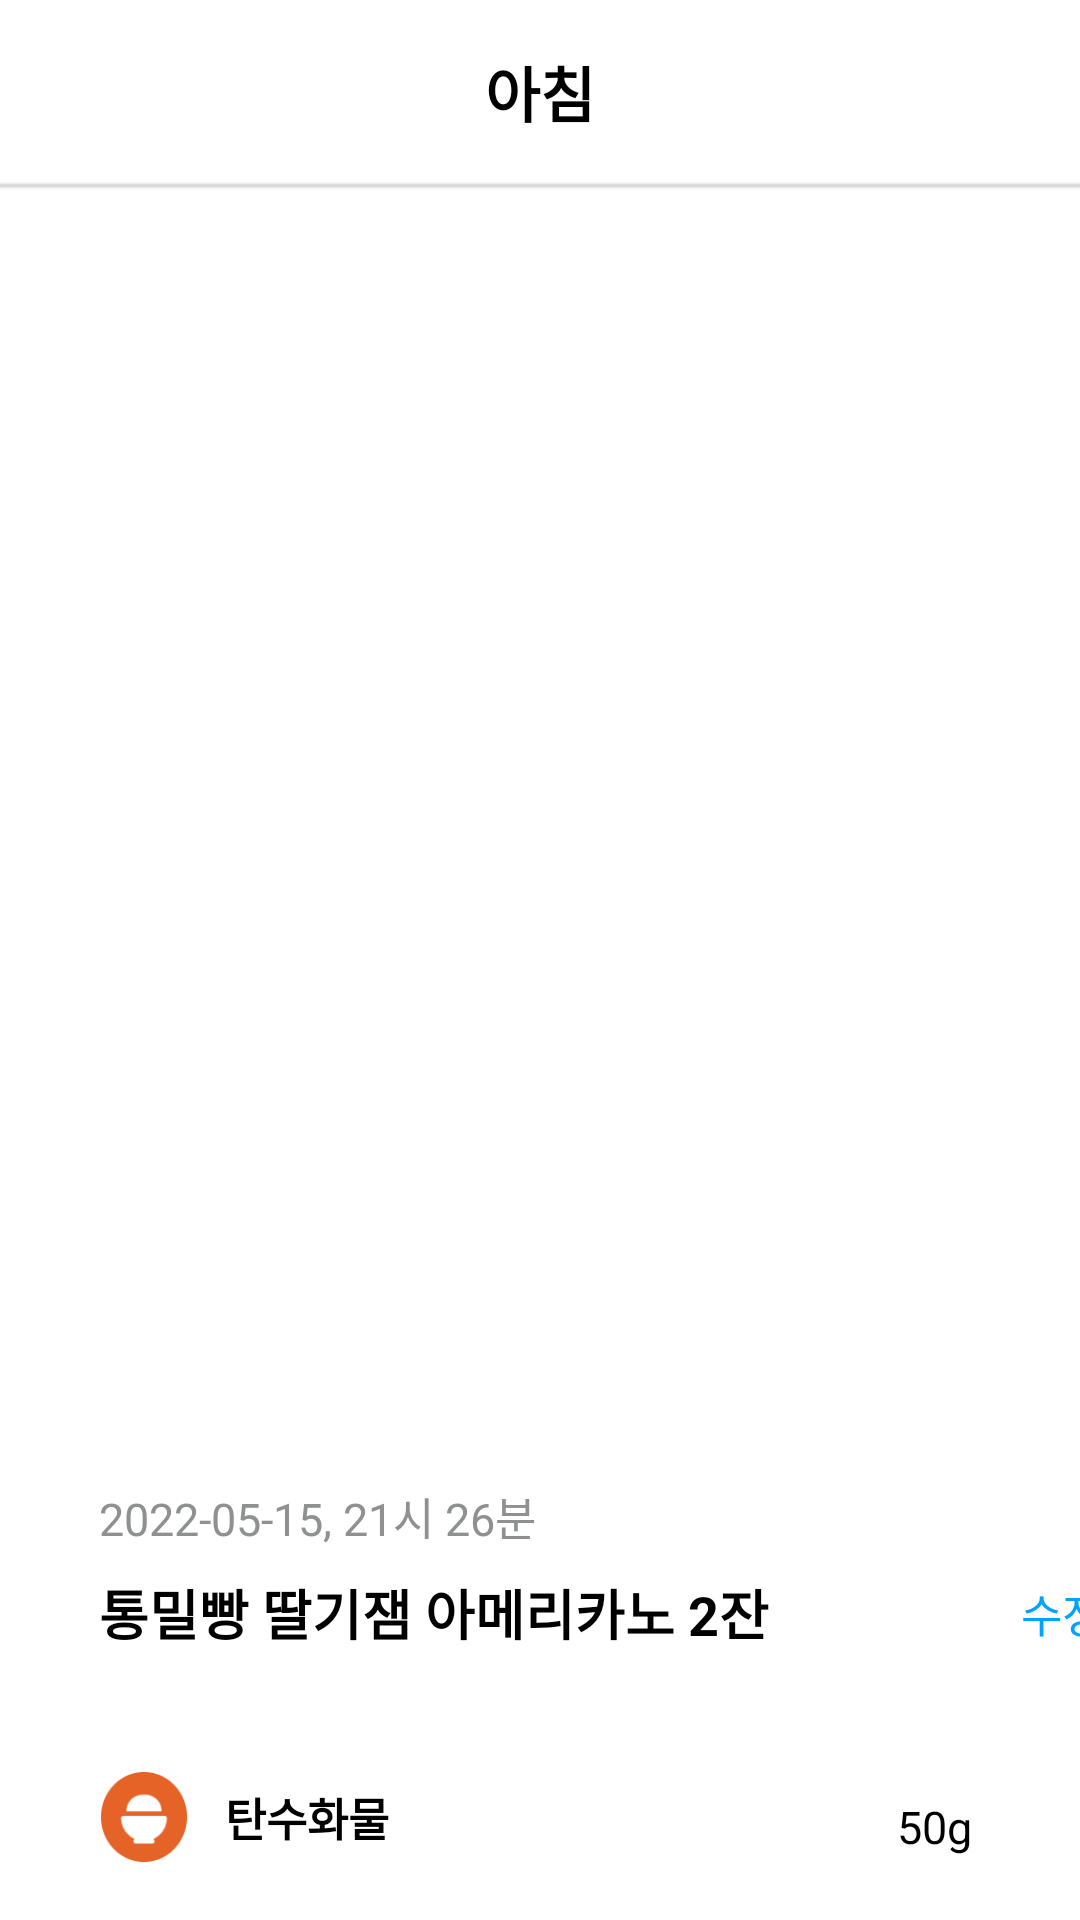

Where to tap for icons on this 1080px×1920px app screen, as (x=x, y=y):
rice: (x=144, y=1817)
